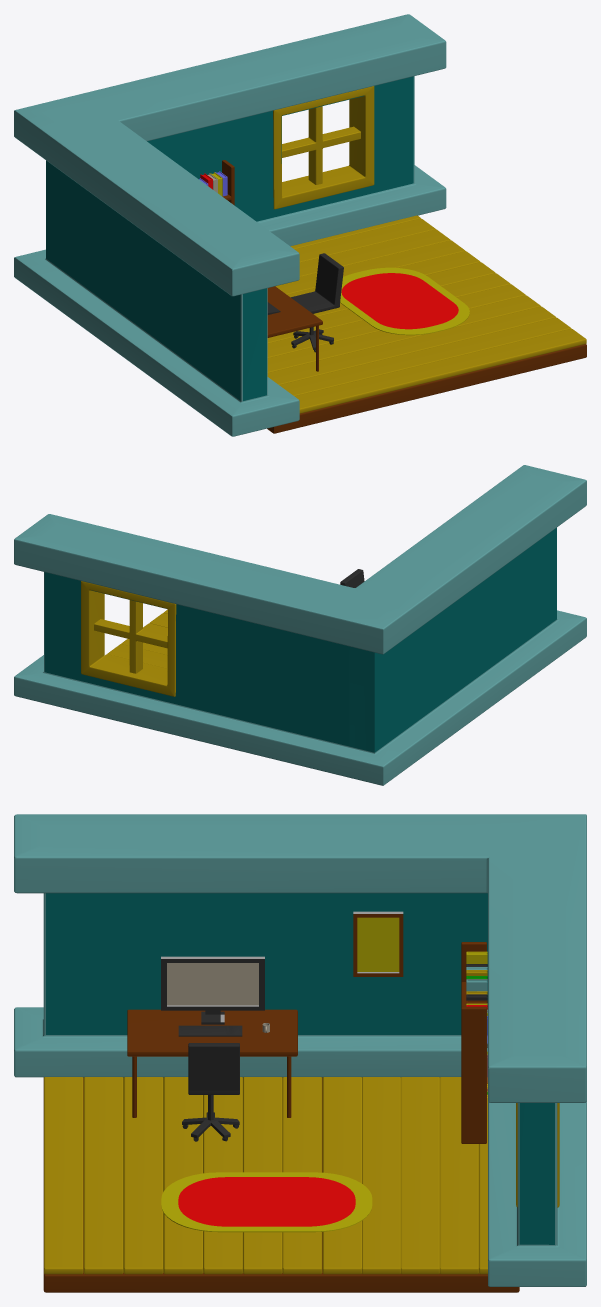
The picture shows the model from 3 angles, top to bottom: view 1: azimuth 30°, elevation 25°; view 2: azimuth 150°, elevation 25°; view 3: azimuth 270°, elevation 25°; orthographic projection. The views are drawn at different scales.
Visible parts, largest first — view 1: polySurface3, rug, floorboard, polySurface2, base, floorboard1, floorboard2, floorboard3, floorboard4, pCylinder11, pCube11, floorboard8 (+7 smaller); view 2: polySurface3, polySurface2, pCube11, floorboard8; view 3: polySurface3, rug, base, floorboard, floorboard1, floorboard2, floorboard9, floorboard8, desk, floorboard10, monitor, floorboard7 (+9 smaller).
Boxes of the visible parts, box(x1,y1,x2,y2) form: polySurface3: box(14, 14, 446, 436); rug: box(340, 267, 469, 335); floorboard: box(295, 328, 586, 413); polySurface2: box(273, 86, 374, 209); base: box(267, 344, 586, 433); floorboard1: box(279, 317, 571, 396); floorboard2: box(267, 306, 555, 384); floorboard3: box(267, 295, 540, 372); floorboard4: box(267, 284, 525, 357); pCylinder11: box(291, 253, 343, 352); pCube11: box(282, 106, 360, 184); floorboard8: box(275, 240, 465, 294); polySurface3: box(14, 465, 586, 785); polySurface2: box(81, 581, 176, 696); pCube11: box(94, 600, 167, 673); floorboard8: box(107, 644, 167, 668); polySurface3: box(14, 814, 586, 1286); rug: box(161, 1172, 372, 1232); base: box(43, 1077, 519, 1292); floorboard: box(44, 1077, 83, 1274); floorboard1: box(84, 1077, 123, 1274); floorboard2: box(123, 1077, 163, 1274); floorboard9: box(401, 1077, 439, 1274); floorboard8: box(362, 1077, 400, 1274); desk: box(127, 1009, 297, 1117); floorboard10: box(440, 1077, 478, 1274); monitor: box(161, 956, 264, 1024); floorboard7: box(322, 1077, 361, 1274).
Bounding box in the file's own units: 30.23 × 13.61 × 28.9.
